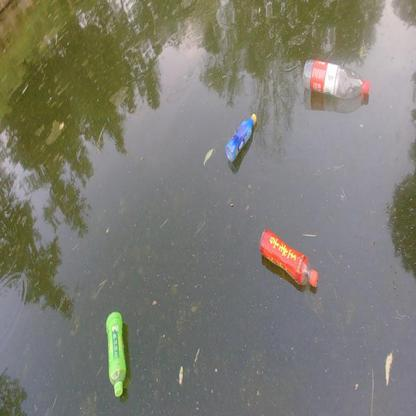plastic bottle: (258, 228, 318, 288), (302, 60, 371, 98), (104, 311, 127, 396), (226, 112, 259, 161)
